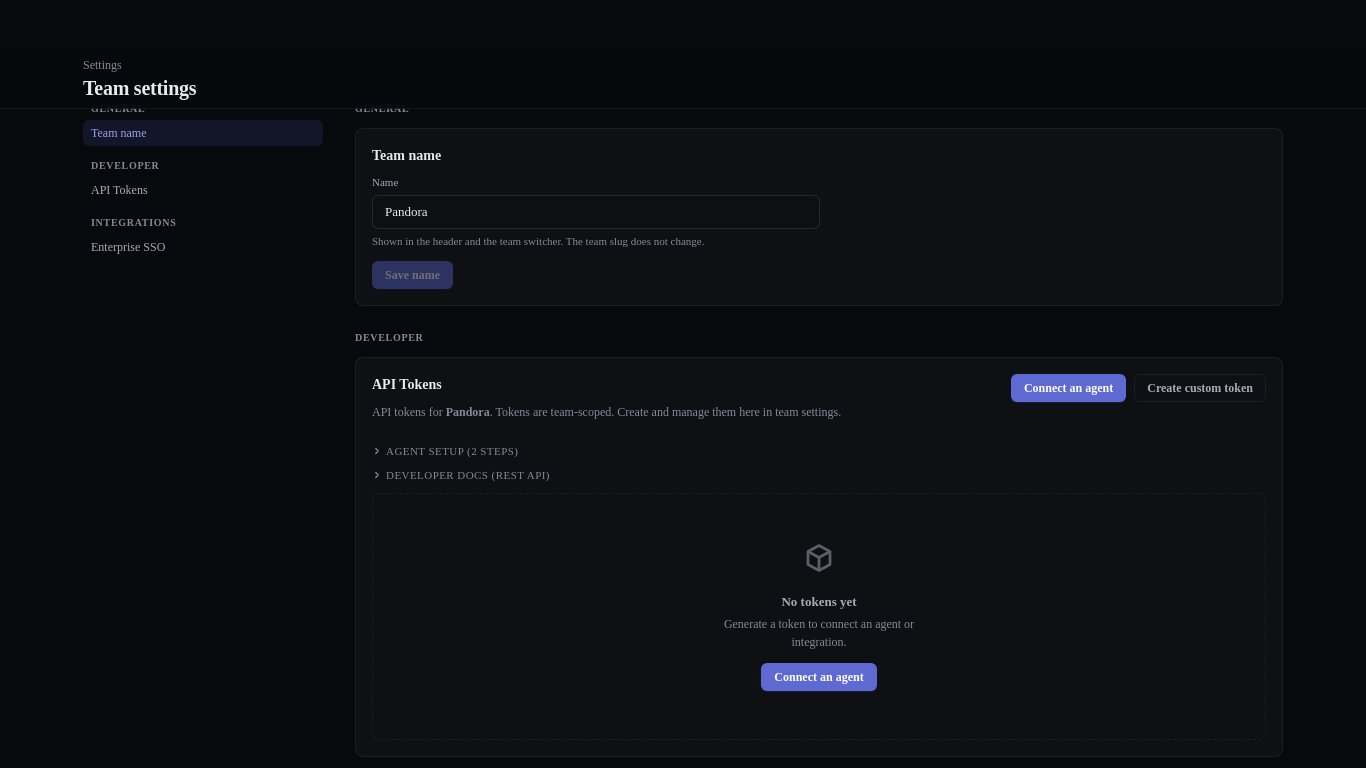
team name card: saving › clears the saved notice as soon as the name is edited again
The image size is (1366, 768).
expect the heading "Team name" is shown: met, box [372, 148, 441, 163]
Replace the text in the field labelled "Name" with "Pandora Labs" at (596,212), box [372, 194, 820, 228]
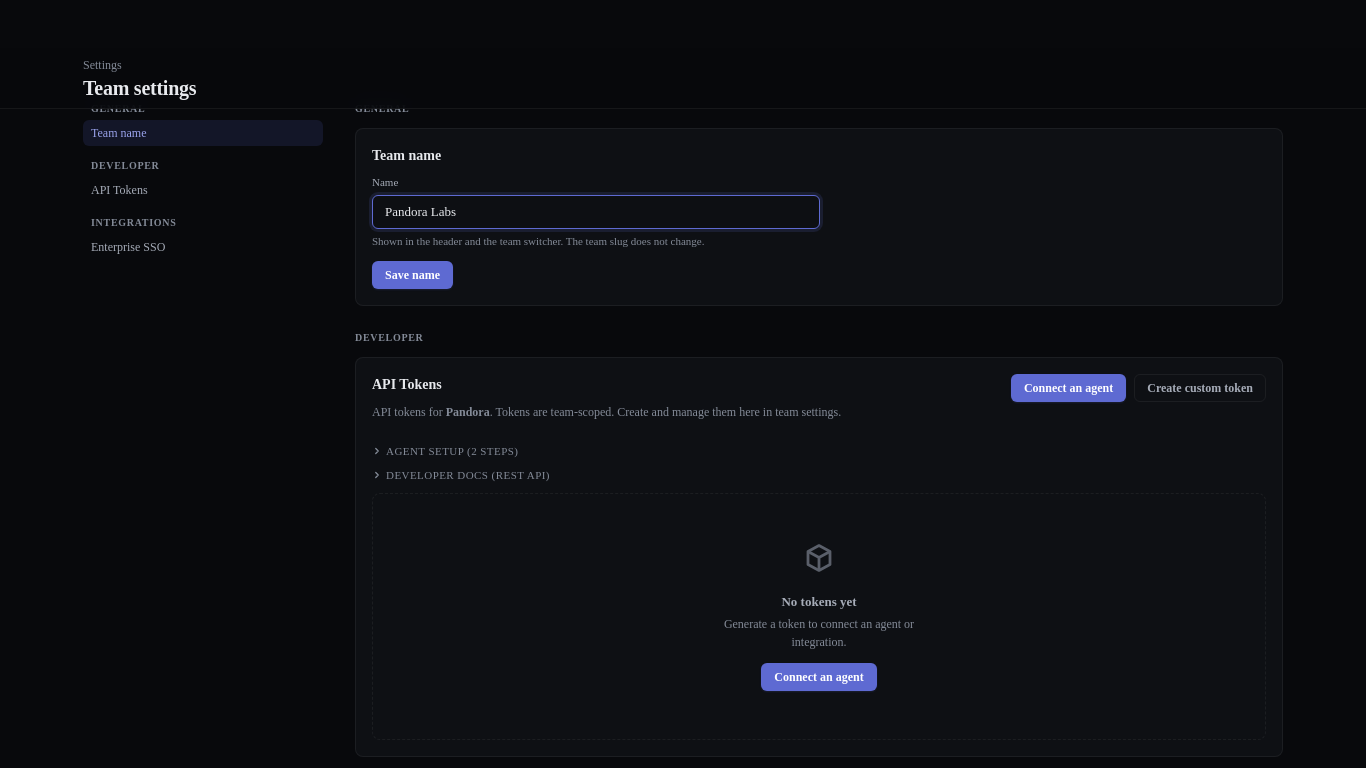
Click the button "Save name" at (412,275), box [372, 261, 453, 289]
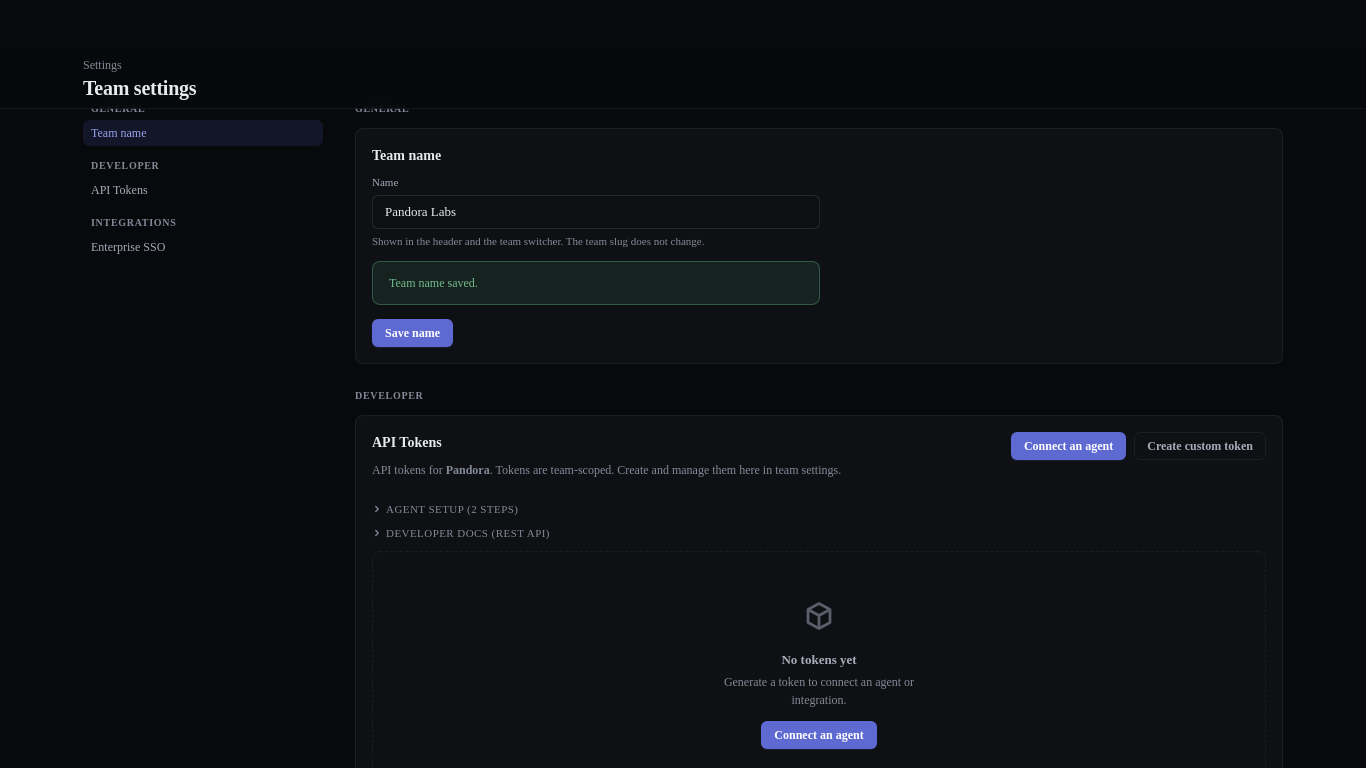
expect the text "Team name saved." is shown: met, box [389, 276, 478, 290]
Type "!" into the field labelled "Name" at (596,212), box [372, 194, 820, 228]
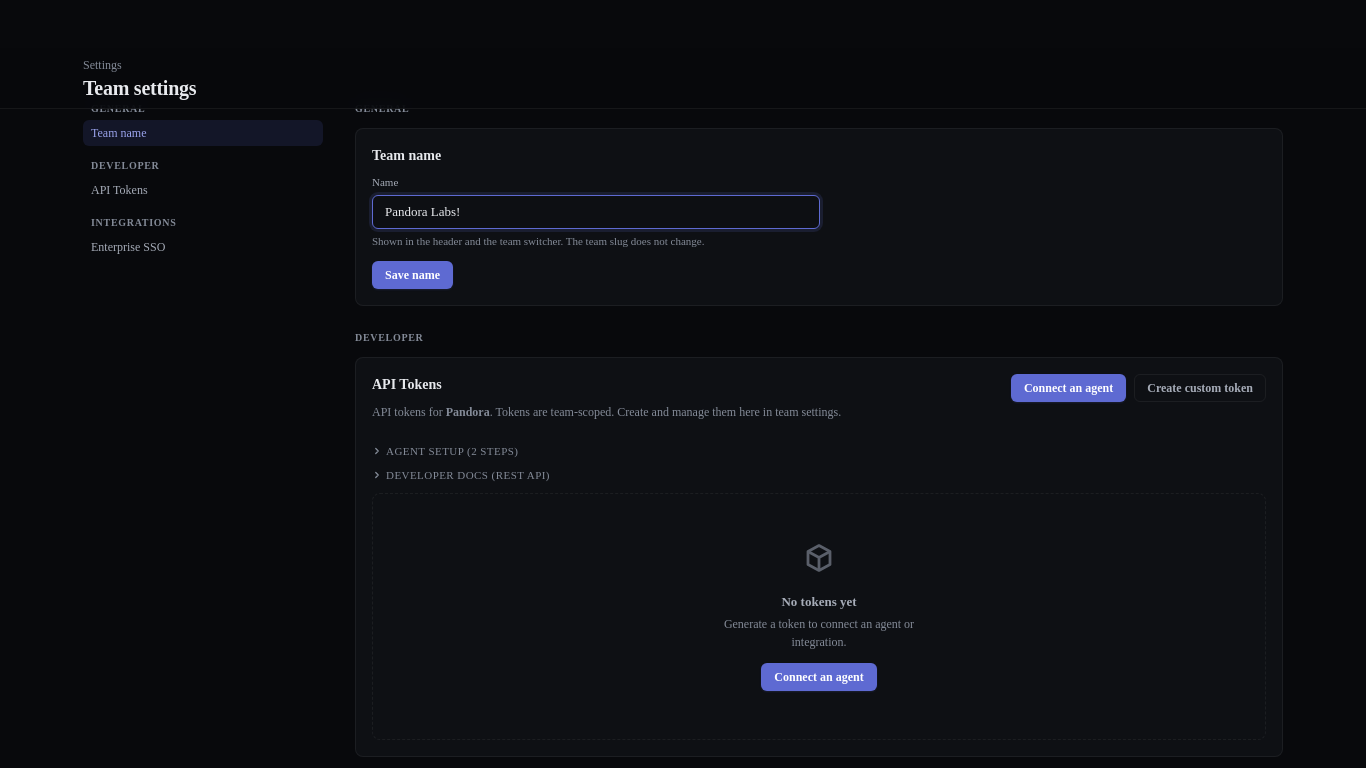
expect the text "Team name saved." is gone: met
